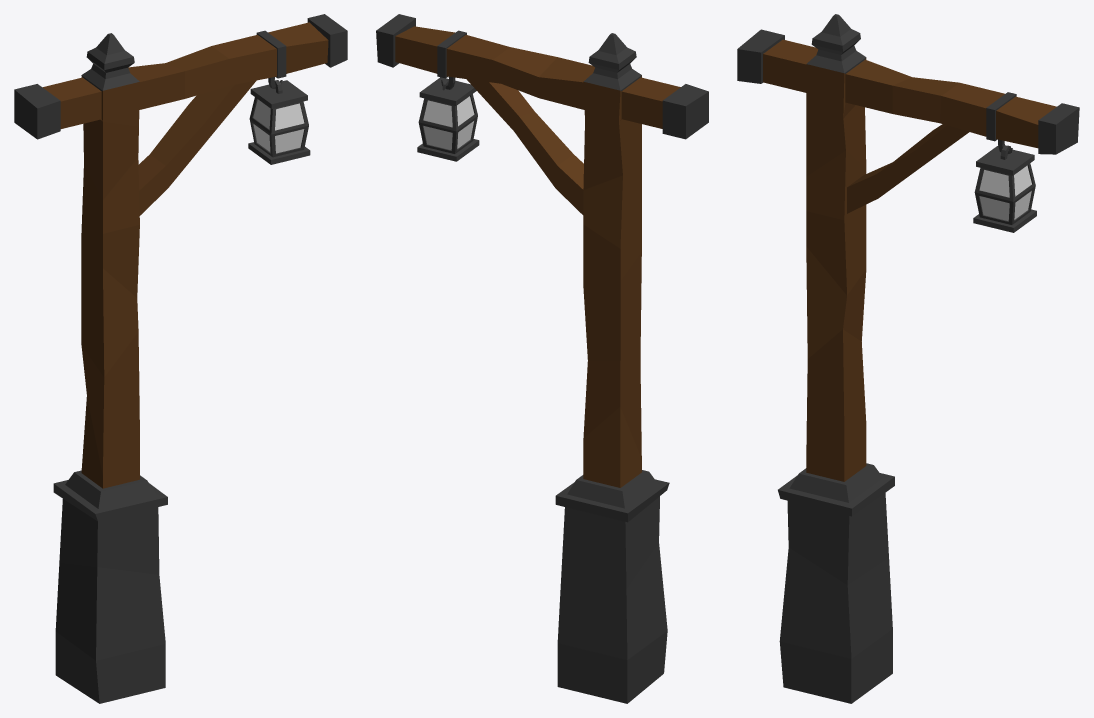
Rendered from Street_Lamp_01.fbx.
3 views of the same model, side by side, from view 1: azimuth 30°, elevation 25°; view 2: azimuth 150°, elevation 25°; view 3: azimuth 330°, elevation 25° (orthographic). The views are drawn at different scales.
Visible parts, largest first — view 1: Cube, Cube.003; view 2: Cube, Cube.003; view 3: Cube, Cube.003.
Part boxes in pixels (left/top/right/bottom): Cube: left=14, top=14, right=347, bottom=703; Cube.003: left=248, top=80, right=310, bottom=164; Cube: left=376, top=14, right=708, bottom=703; Cube.003: left=417, top=77, right=479, bottom=161; Cube: left=737, top=14, right=1079, bottom=703; Cube.003: left=973, top=145, right=1036, bottom=232.
Bounding box in the file's own units: 360 × 717 × 84.
